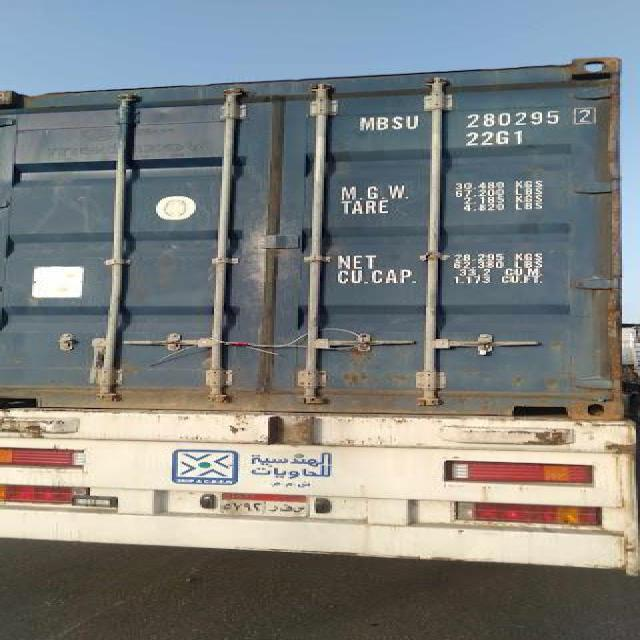ISO: (454, 131, 544, 145)
container_number: (340, 110, 604, 127)
